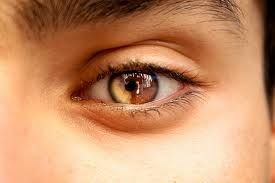iris: (108, 64, 159, 105)
pupil: (124, 79, 137, 92)
